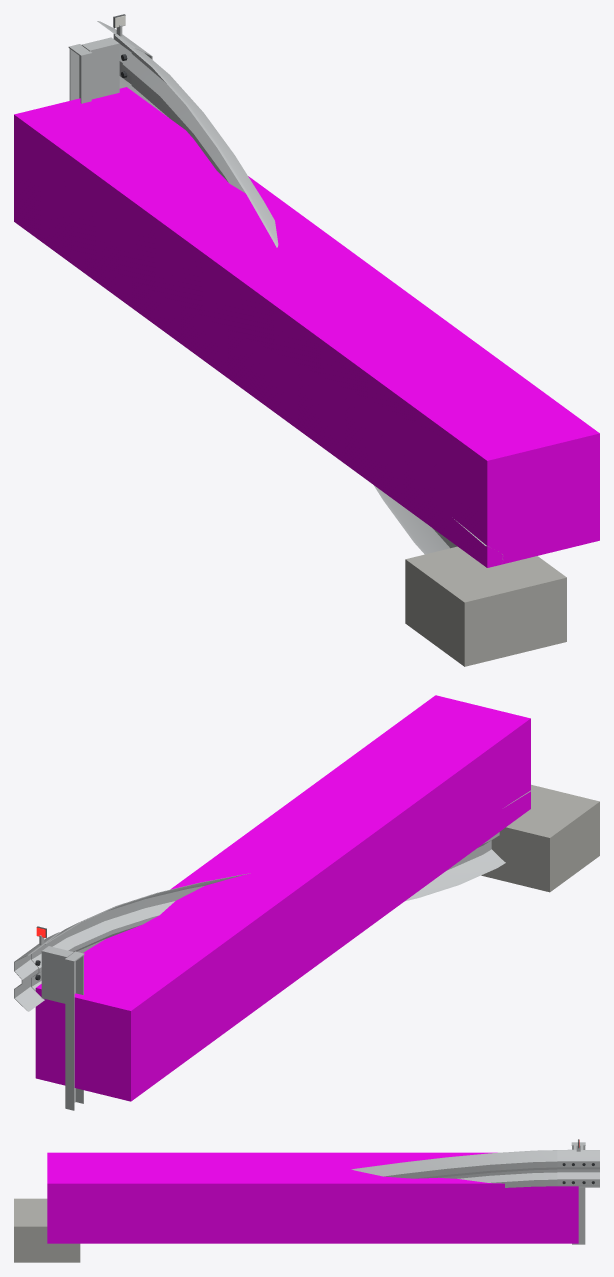
Rendered from EN_Barrier_WBeam_EndRamp.fbx.
3 views of the same model, one above another, from view 1: azimuth 30°, elevation 25°; view 2: azimuth 150°, elevation 25°; view 3: azimuth 270°, elevation 25° (orthographic). The views are drawn at different scales.
Visible parts, largest first — view 1: COL_Barrier, EN_Barrier_WBeam_EndRamp_Mesh; view 2: COL_Barrier, EN_Barrier_WBeam_EndRamp_Mesh; view 3: COL_Barrier, EN_Barrier_WBeam_EndRamp_Mesh.
Part boxes in pixels (x1=…): COL_Barrier: x1=14, y1=87, x2=599, y2=567; EN_Barrier_WBeam_EndRamp_Mesh: x1=68, y1=14, x2=566, y2=666; COL_Barrier: x1=35, y1=695, x2=530, y2=1101; EN_Barrier_WBeam_EndRamp_Mesh: x1=14, y1=784, x2=599, y2=1110; COL_Barrier: x1=47, y1=1152, x2=578, y2=1243; EN_Barrier_WBeam_EndRamp_Mesh: x1=14, y1=1139, x2=599, y2=1262.
Bounding box in the file's own units: 0.845 × 1.14 × 4.41.
